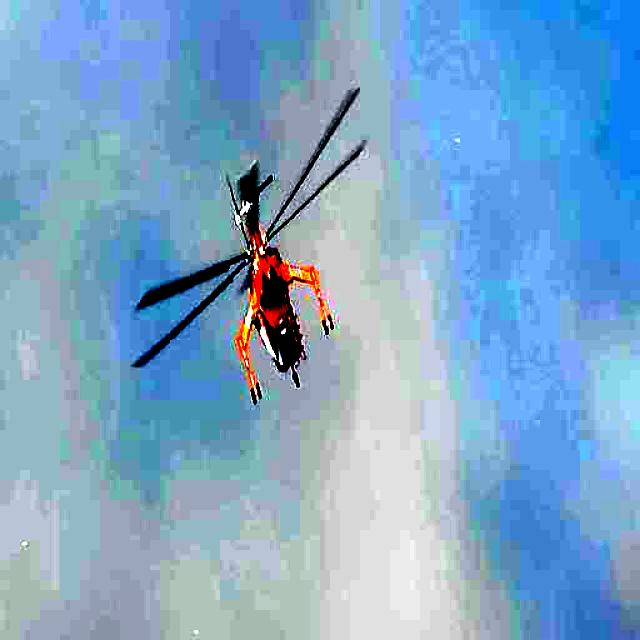drone: (135, 92, 365, 415)
